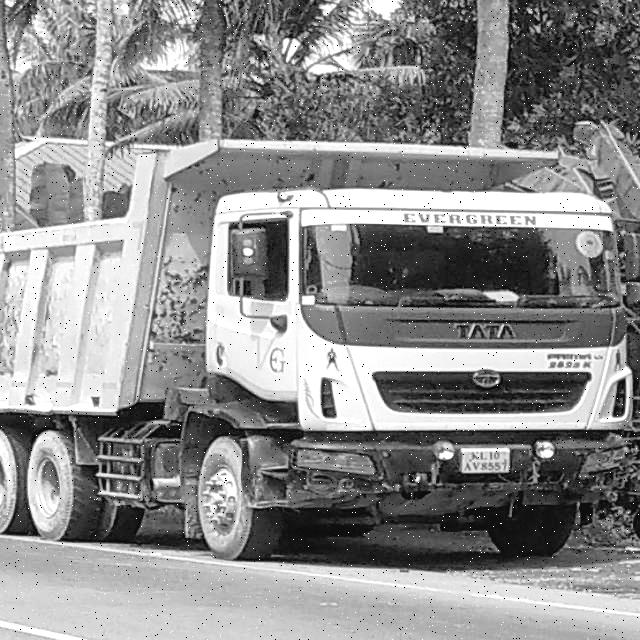HCV: (173, 153, 640, 597)
